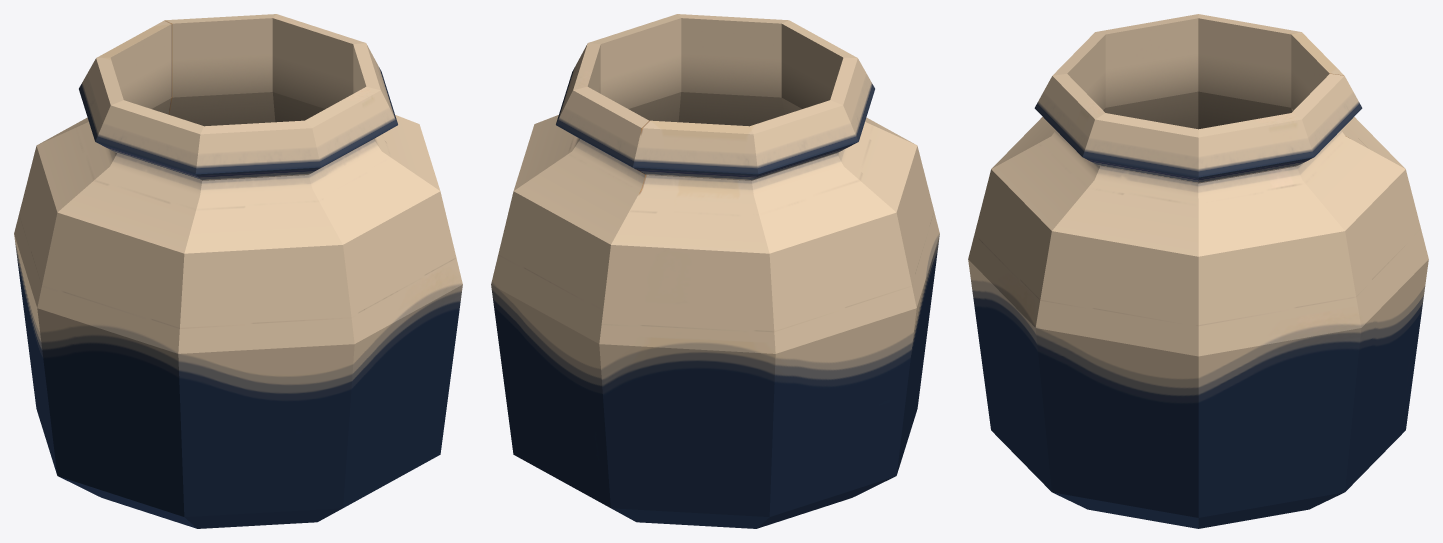
The model's file is Pottery_2_BLUE.fbx.
3 renders of one model, left to right at view 1: azimuth 30°, elevation 25°; view 2: azimuth 150°, elevation 25°; view 3: azimuth 270°, elevation 25°, orthographic.
Parts seen in each view (by area): view 1: pCylinder16; view 2: pCylinder16; view 3: pCylinder16.
Boxes of the visible parts, x1,y1,x2,y2 form: pCylinder16: [14, 14, 462, 528]; pCylinder16: [491, 14, 939, 528]; pCylinder16: [968, 14, 1428, 528].
Bounding box in the file's own units: 2.66 × 2.48 × 2.66.
1 material, 1 textured.
